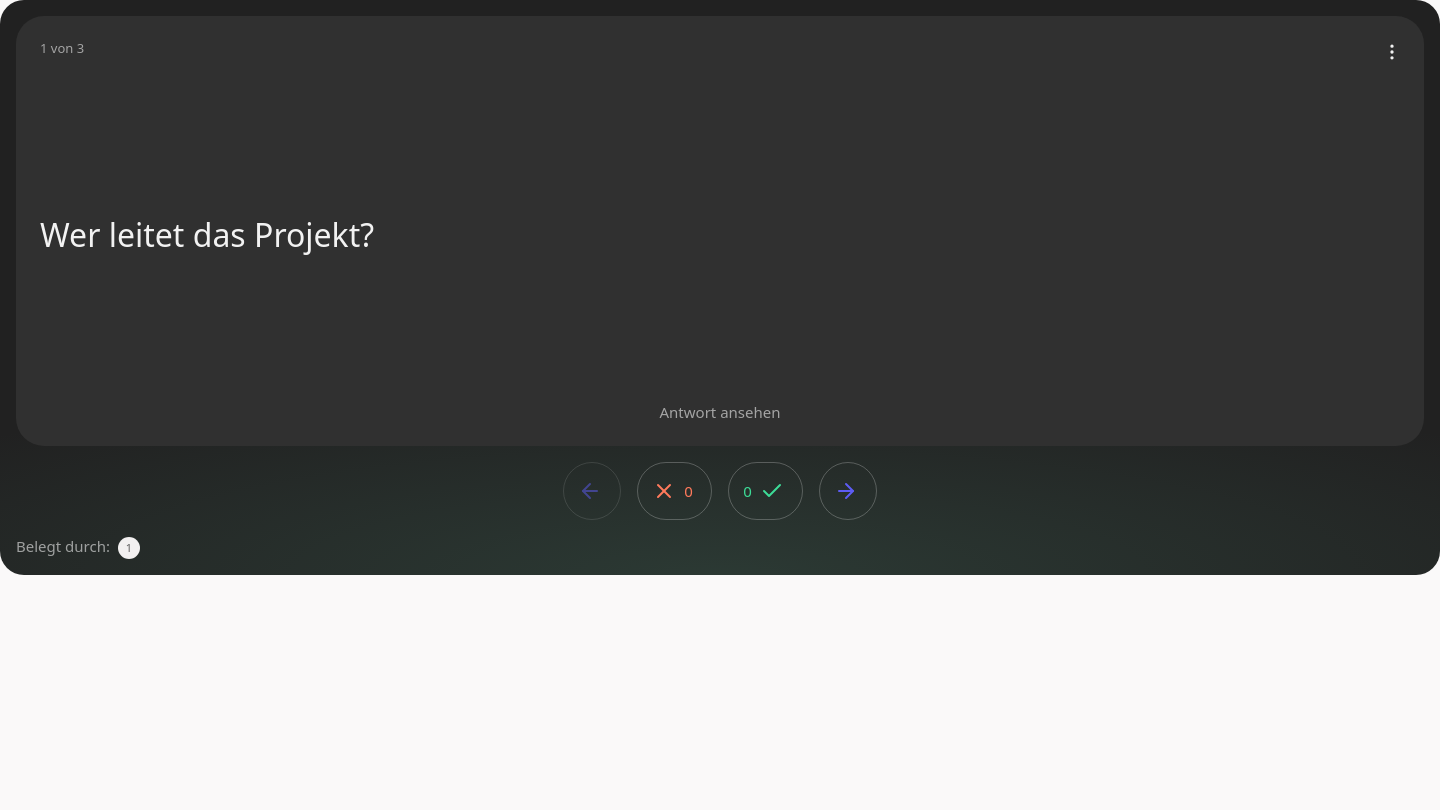
Test: FlashcardsView › always shows the front of the card that comes up
Click the button named "Aktivieren, um die Antwort zu sehen": (720, 231) 16,16 -> 1424,446
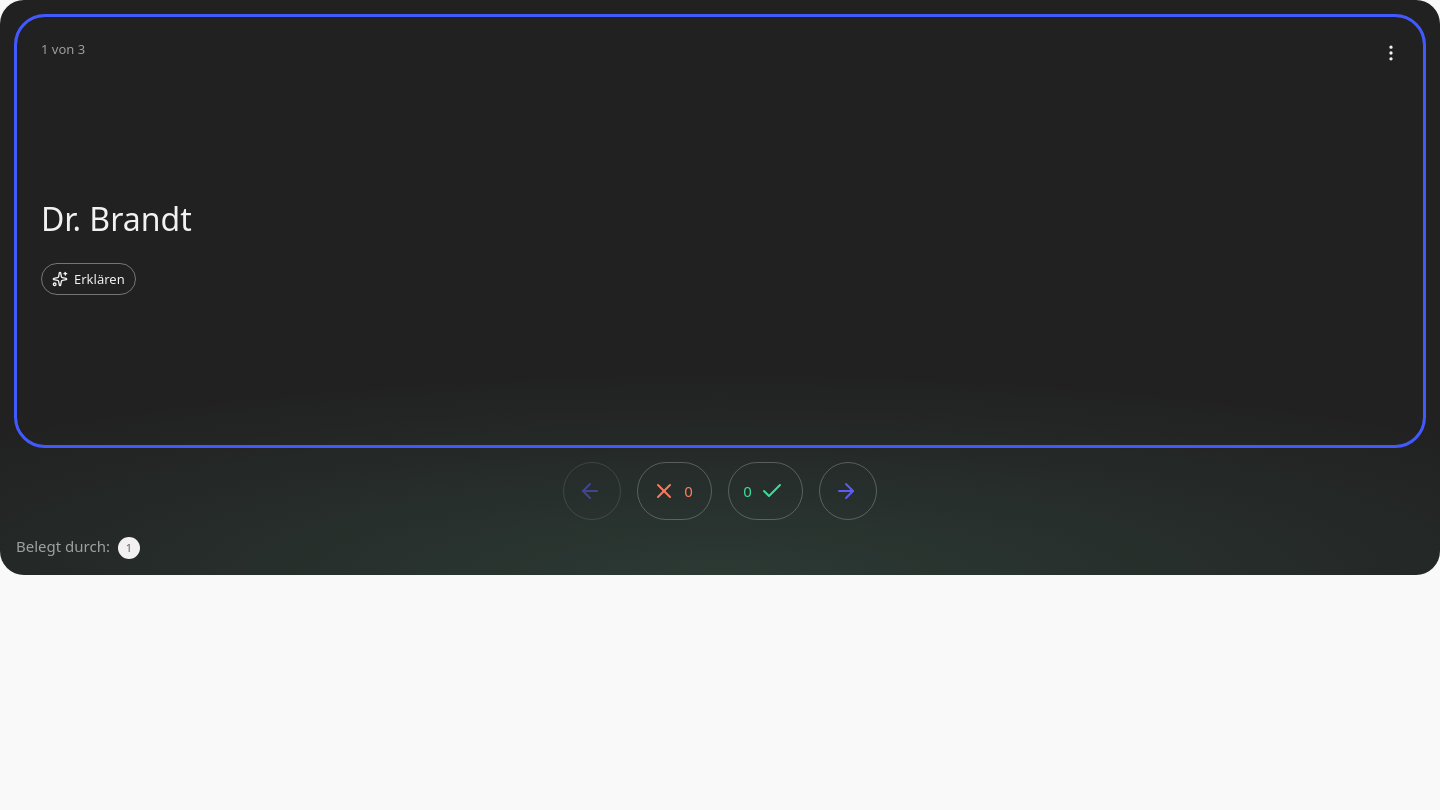
Click the button named "Nächste Karte": (848, 491) 819,462 -> 877,520
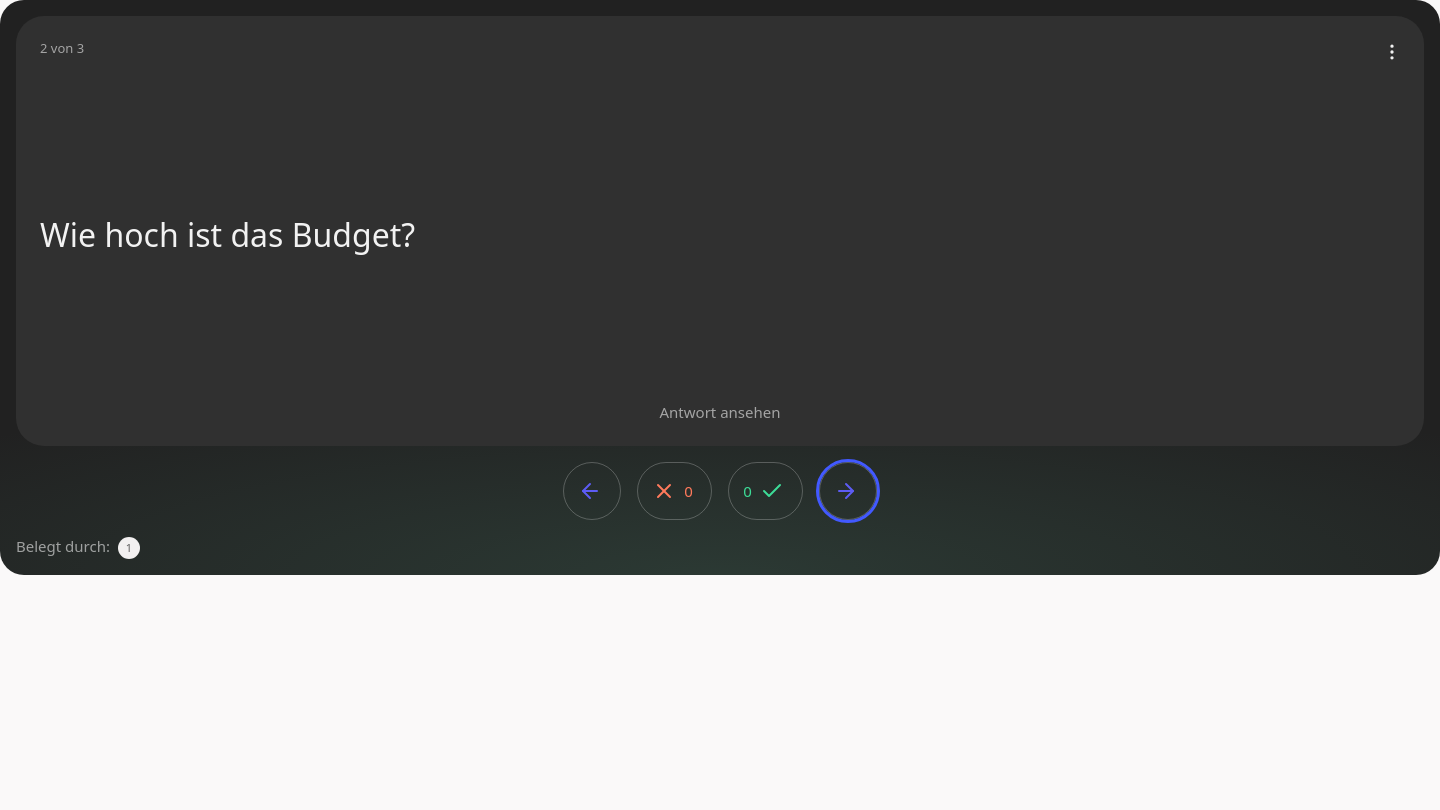
expect the text "Wie hoch ist das Budget?" is shown: met, box 40,213 -> 415,256
